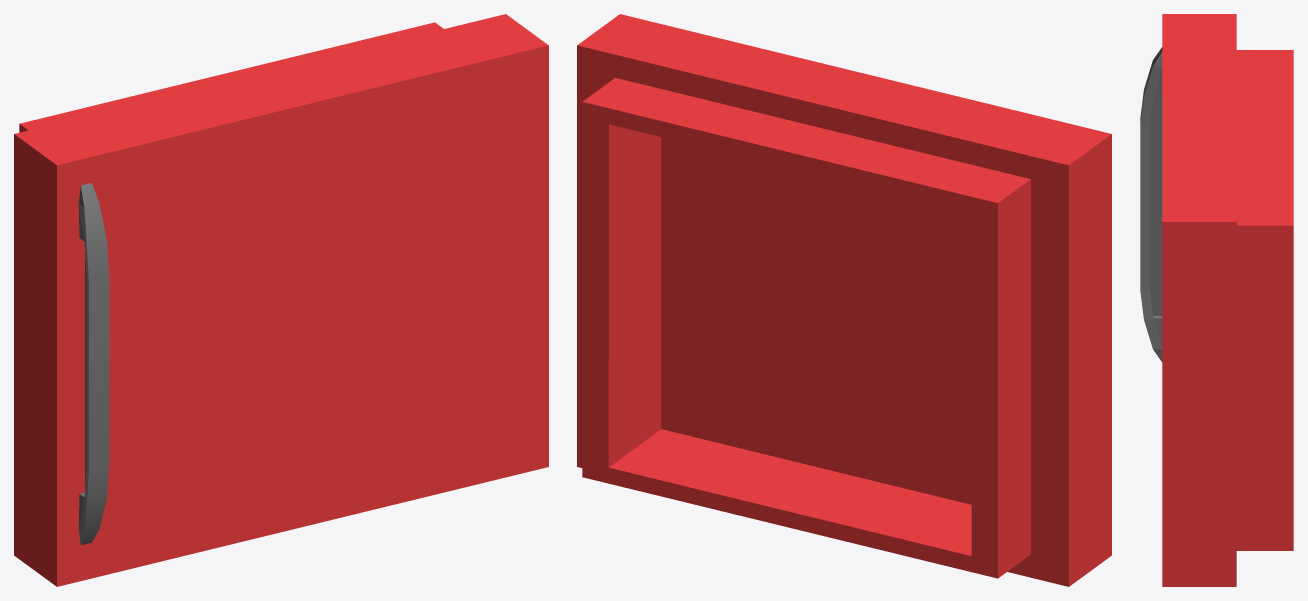
File: Itr_Obj_Fridge2_Bottom_Door_03.FBX
3 renders of one model, left to right at view 1: azimuth 30°, elevation 25°; view 2: azimuth 150°, elevation 25°; view 3: azimuth 270°, elevation 25°, orthographic. The views are drawn at different scales.
Visible parts, largest first — view 1: Itr_Obj_Fridge2_Bottom_Door_03; view 2: Itr_Obj_Fridge2_Bottom_Door_03; view 3: Itr_Obj_Fridge2_Bottom_Door_03.
Part boxes in pixels (box(x1,y1,x2,y2)): Itr_Obj_Fridge2_Bottom_Door_03: box(14, 14, 548, 586); Itr_Obj_Fridge2_Bottom_Door_03: box(577, 14, 1111, 586); Itr_Obj_Fridge2_Bottom_Door_03: box(1140, 14, 1293, 586).
Bounding box in the file's own units: 34.44 × 28.21 × 10.74.
